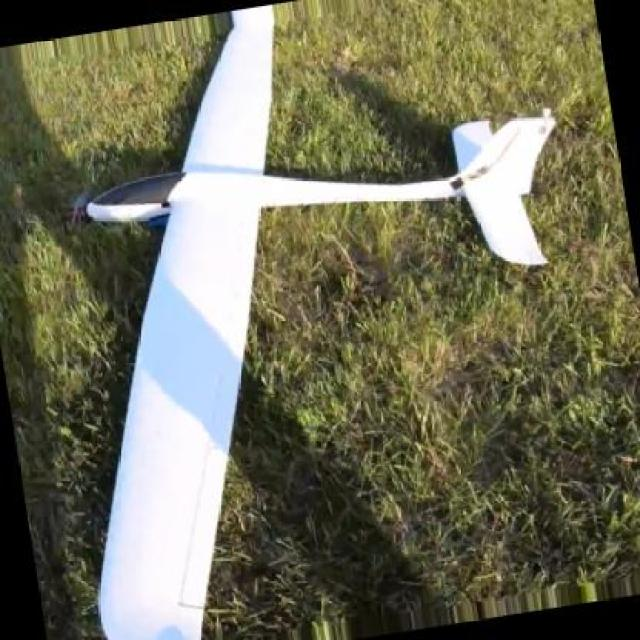iha: (52, 0, 566, 635)
